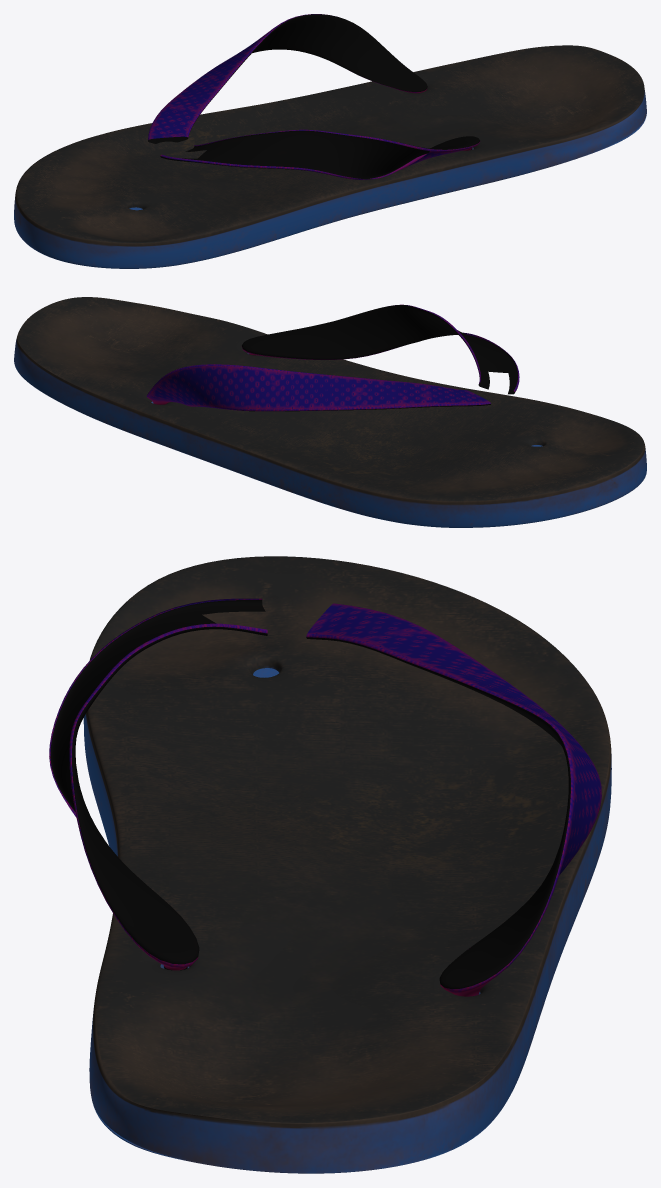
The model's file is tsinelas_tsinelas.glb.
The picture shows the model from 3 angles, top to bottom: view 1: azimuth 30°, elevation 25°; view 2: azimuth 150°, elevation 25°; view 3: azimuth 270°, elevation 25°; orthographic projection. The views are drawn at different scales.
Visible parts, largest first — view 1: tsinelas_tsinelas; view 2: tsinelas_tsinelas; view 3: tsinelas_tsinelas.
Part boxes in pixels (x1,y1,x2,y2): tsinelas_tsinelas: (14,14,646,268); tsinelas_tsinelas: (14,297,646,527); tsinelas_tsinelas: (49,556,611,1173).
Size of the model in its own units: 0.432 by 0.0743 by 0.1753.
2 materials, 2 textured.
